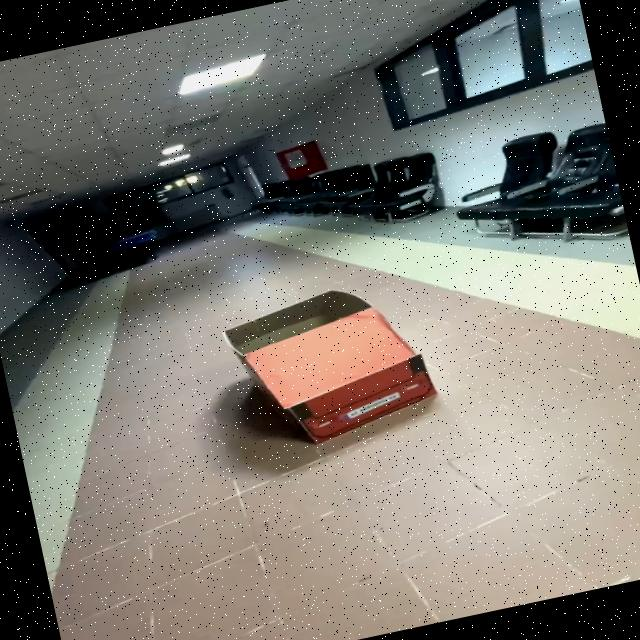red_car: (191, 255, 462, 468)
